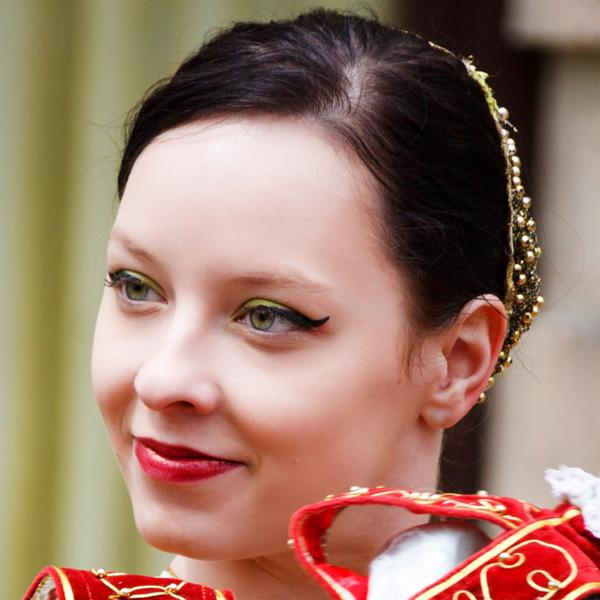Eyes: (218, 287, 323, 351), (100, 259, 177, 319)
